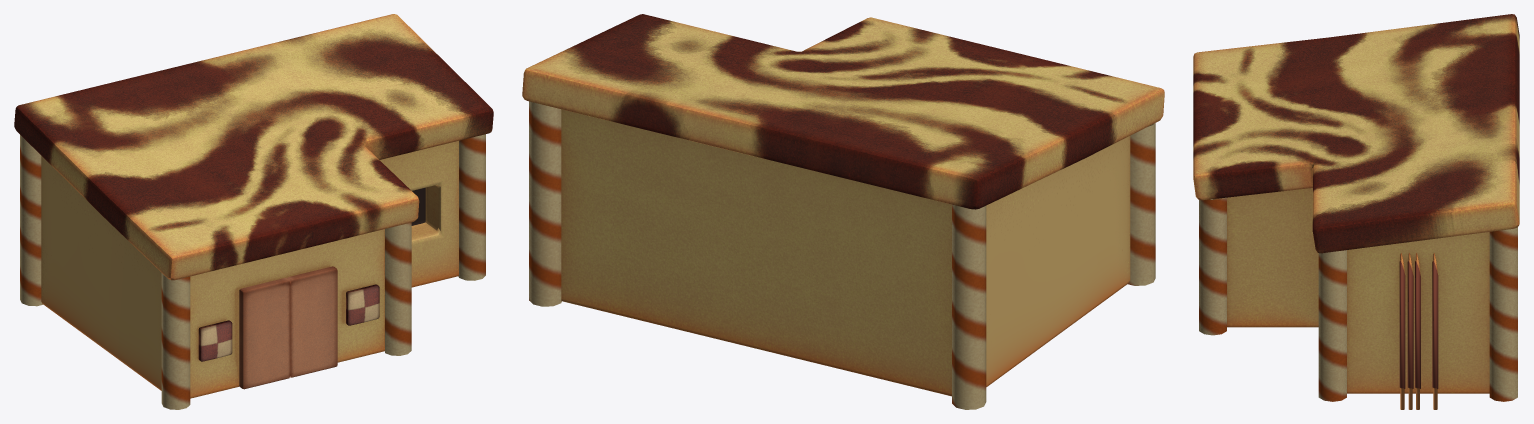
File: Mod_Tier1.gltf
3 renders of one model, left to right at view 1: azimuth 30°, elevation 25°; view 2: azimuth 150°, elevation 25°; view 3: azimuth 270°, elevation 25°, orthographic. The views are drawn at different scales.
Visible parts, largest first — view 1: Tier1; view 2: Tier1; view 3: Tier1.
Boxes of the visible parts, bbox=[...] form: Tier1: bbox=[14, 14, 493, 409]; Tier1: bbox=[522, 14, 1164, 409]; Tier1: bbox=[1193, 14, 1519, 409].
Bounding box in the file's own units: 19.93 × 9.6 × 14.03.
1 material, 1 textured.
